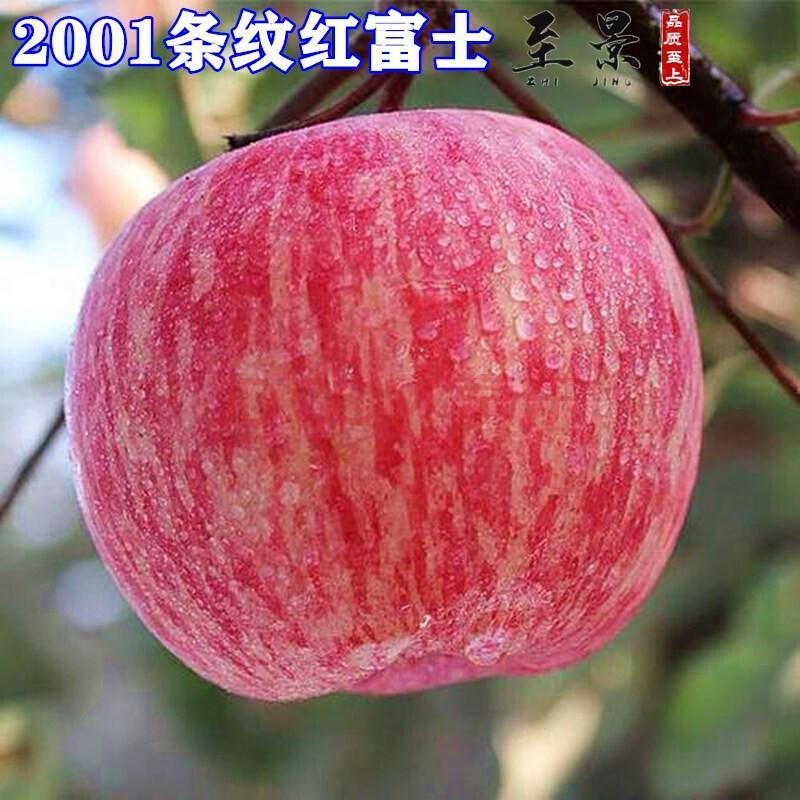apple: (68, 103, 701, 704)
